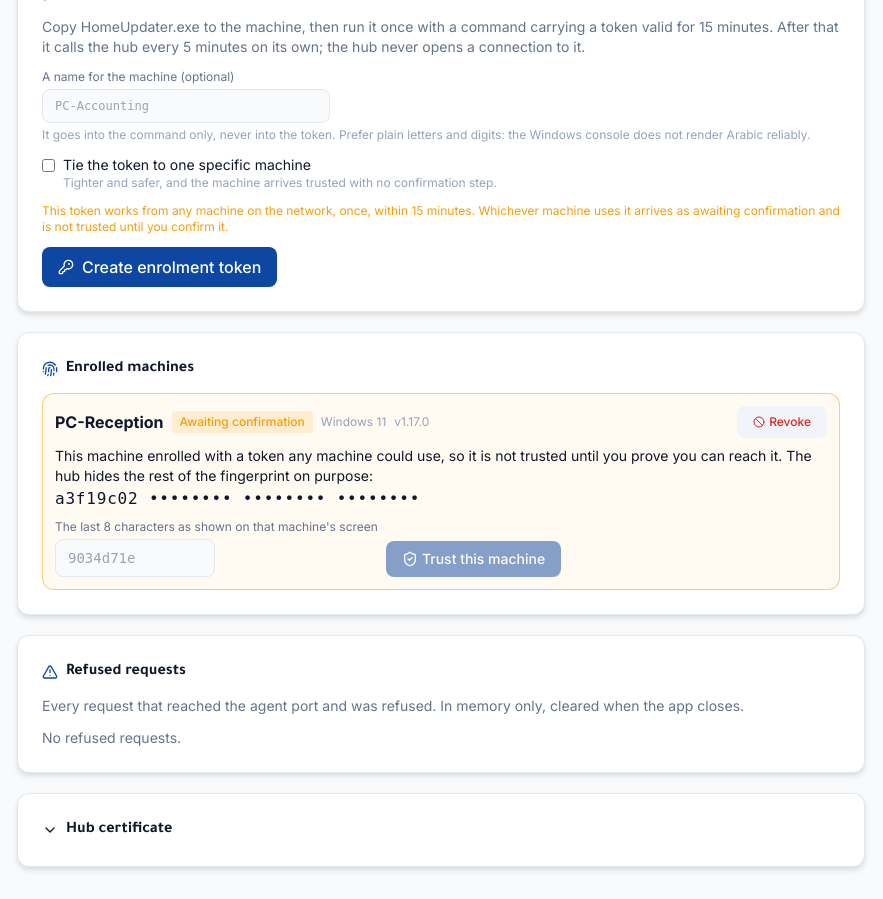
Test case: trusting a machine › tells the operator where to read the right characters after a mismatch
(page scrolled)
Type "00000000" into the field labelled "The last 8 characters as shown on that machine's screen" at (135, 558), box [55,539,215,577]
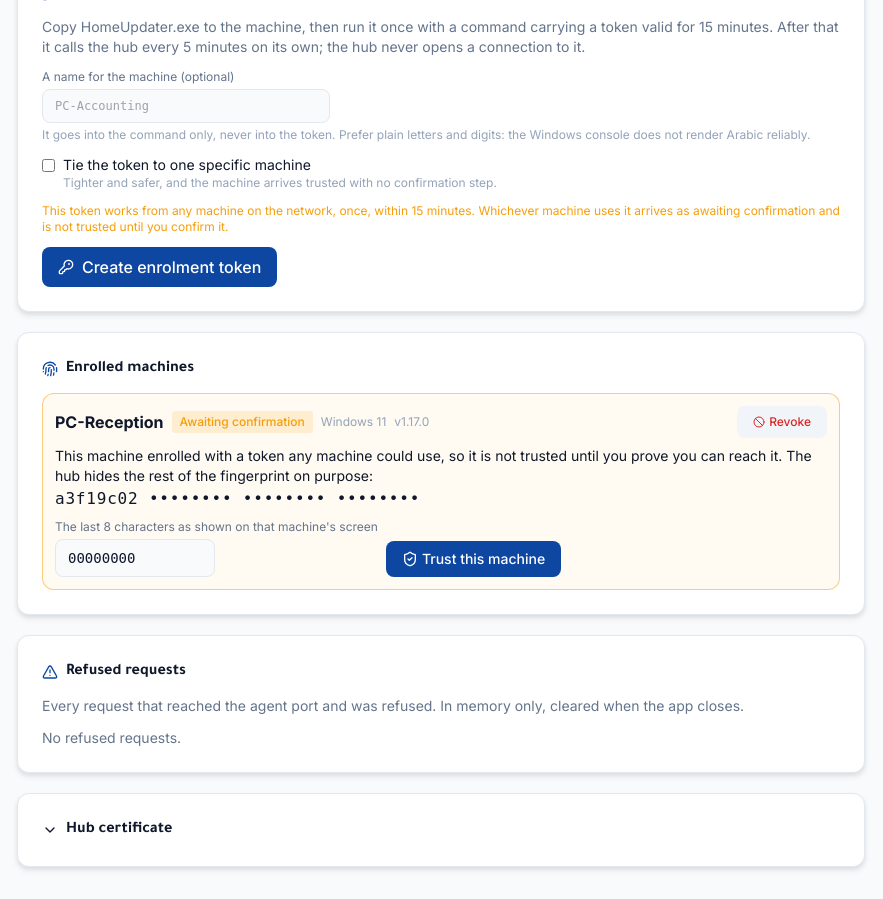
Click the button "Trust this machine" at (474, 559), box [386,541,561,577]
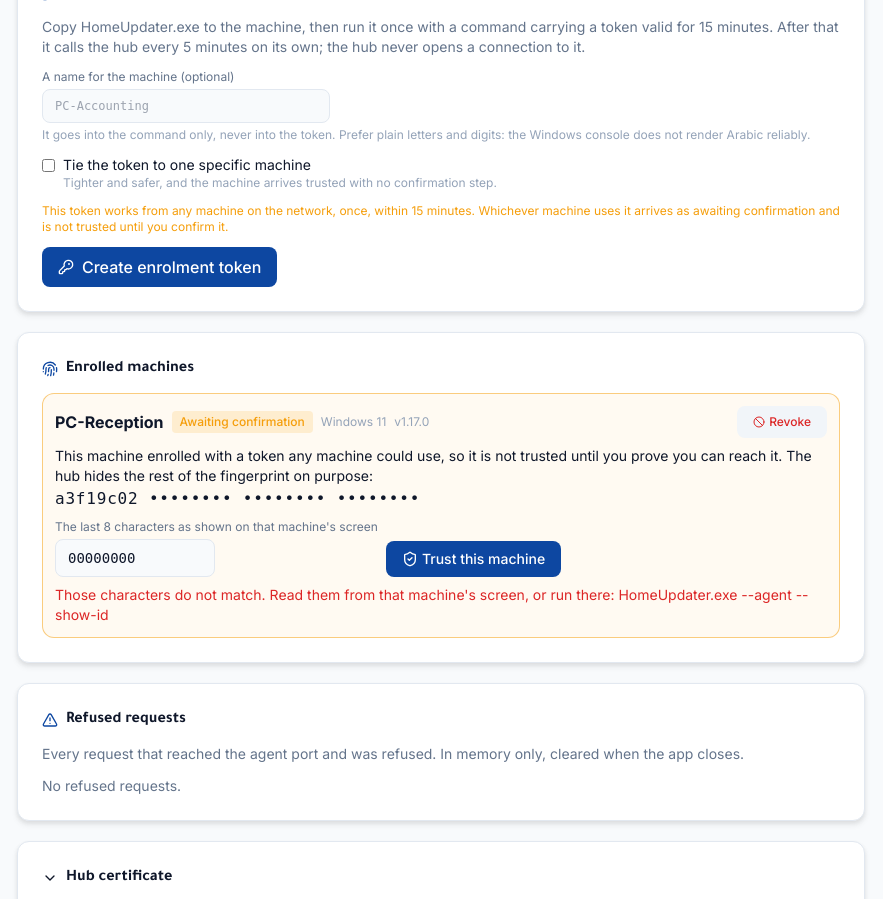
Now the text "--show-id" is shown, box [55,586,808,623]
